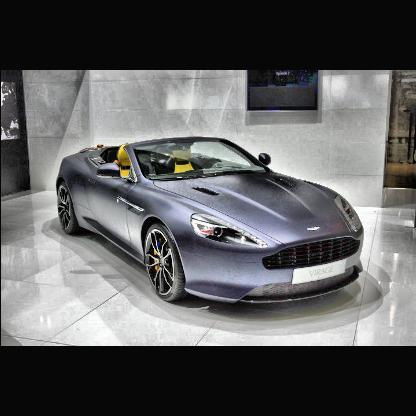Aston Martin Virage Convertible 2012: (55, 132, 368, 311)
